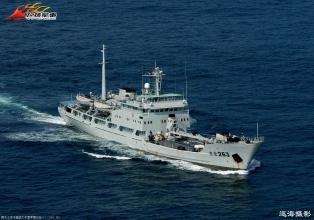warship: (55, 43, 263, 168)
